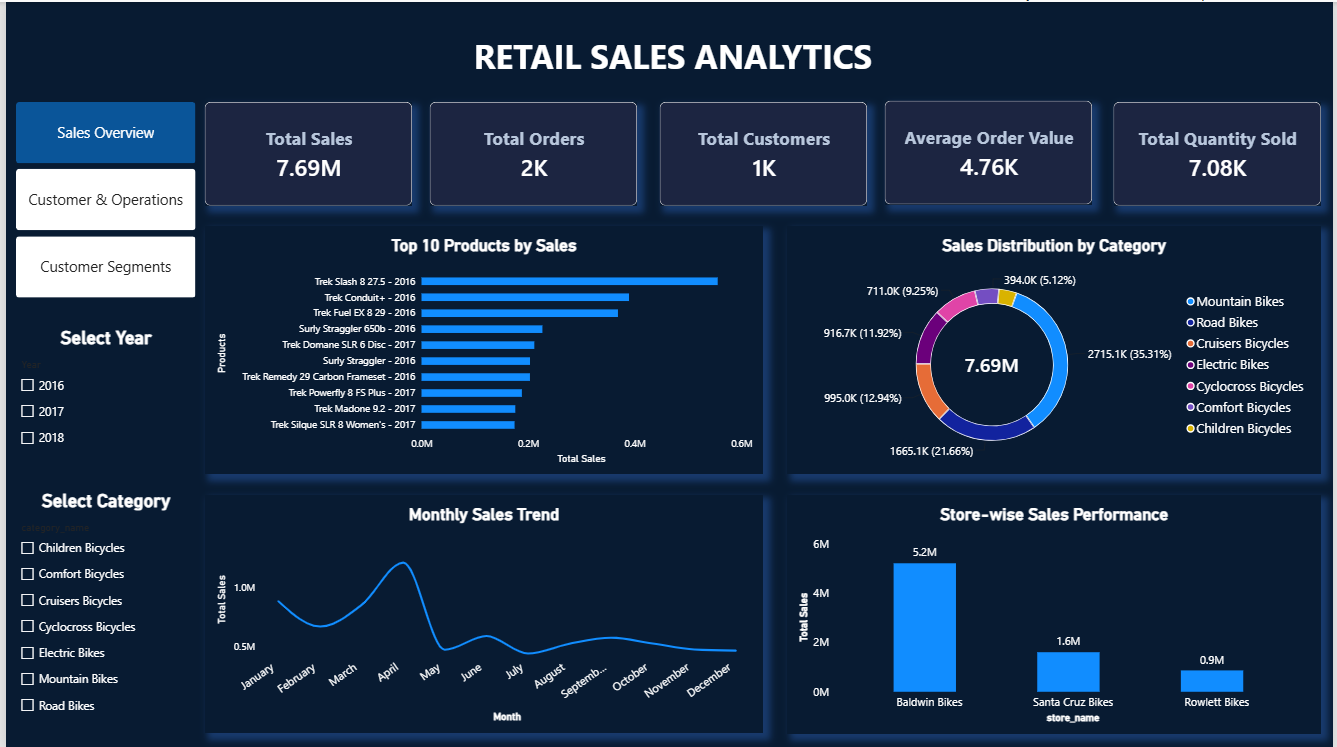

The page's visual inventory and layout, read from the dashboard file:
{"tool":"powerbi","page":{"name":"Sales Overview","canvas":[1920,1080],"ordinal":0},"visuals":[{"type":"cardVisual","fields":{"Data":["brands.Total Sales"]},"box":[287.7,144.8,300,150],"z":0},{"type":"cardVisual","fields":{"Data":["orders.Total Orders"]},"box":[613.5,144.8,300,150],"z":1000},{"type":"cardVisual","fields":{"Data":["customers.Total Customers"]},"box":[946.5,144.8,300,150],"z":2000},{"type":"cardVisual","fields":{"Data":["customers.Average Order Value"]},"box":[1272.2,143,300,150],"z":3000},{"type":"lineChart","title":"Monthly Sales Trend","fields":{"Category":["orders.order_date.Variation.Date Hierarchy.Month"],"Y":["Sum(order_items.total_price)"]},"box":[287.7,713,808.9,345.6],"z":4000},{"type":"clusteredBarChart","title":"Top 10 Products by Sales","fields":{"Category":["products.product_name"],"Y":["brands.Total Sales"]},"box":[287.7,323.9,808.9,360.1],"z":5000},{"type":"pageNavigator","box":[14.5,144.8,260.6,285.9],"z":6000},{"type":"shape","box":[27.1,23.5,1876.6,105],"z":7000},{"type":"donutChart","title":"Sales Distribution by Category","fields":{"Category":["categories.category_name"],"Y":["brands.Total Sales"]},"box":[1131,323.9,772.7,360.1],"z":8000},{"type":"slicer","title":"Select Year","fields":{"Values":["orders.order_date.Variation.Date Hierarchy.Year"]},"box":[14.5,470.5,260.6,235.3],"z":9000},{"type":"slicer","title":"Select Category","fields":{"Values":["categories.category_name"]},"box":[14.5,705.8,260.6,352.9],"z":10000},{"type":"cardVisual","fields":{"Data":["brands.Total Quantity Sold"]},"box":[1603.4,144.8,300,150],"z":11000},{"type":"columnChart","title":"Store-wise Sales Performance","fields":{"Category":["stores.store_name"],"Y":["brands.Total Sales"]},"box":[1131,713,773,346],"z":12000}]}

Visuals, with their boxes in screenshot pixels (x1, y1, x2, y2), scaled from the page's 1920x1080 canvas onto the 1337x747 screenshot:
cardVisual - brands.Total Sales: 200,100,409,204
cardVisual - orders.Total Orders: 427,100,636,204
cardVisual - customers.Total Customers: 659,100,868,204
cardVisual - customers.Average Order Value: 886,99,1095,203
"Monthly Sales Trend" lineChart: 200,493,764,732
"Top 10 Products by Sales" clusteredBarChart: 200,224,764,473
pageNavigator: 10,100,192,298
shape: 19,16,1326,89
"Sales Distribution by Category" donutChart: 788,224,1326,473
"Select Year" slicer: 10,325,192,488
"Select Category" slicer: 10,488,192,732
cardVisual - brands.Total Quantity Sold: 1117,100,1325,204
"Store-wise Sales Performance" columnChart: 788,493,1326,732
